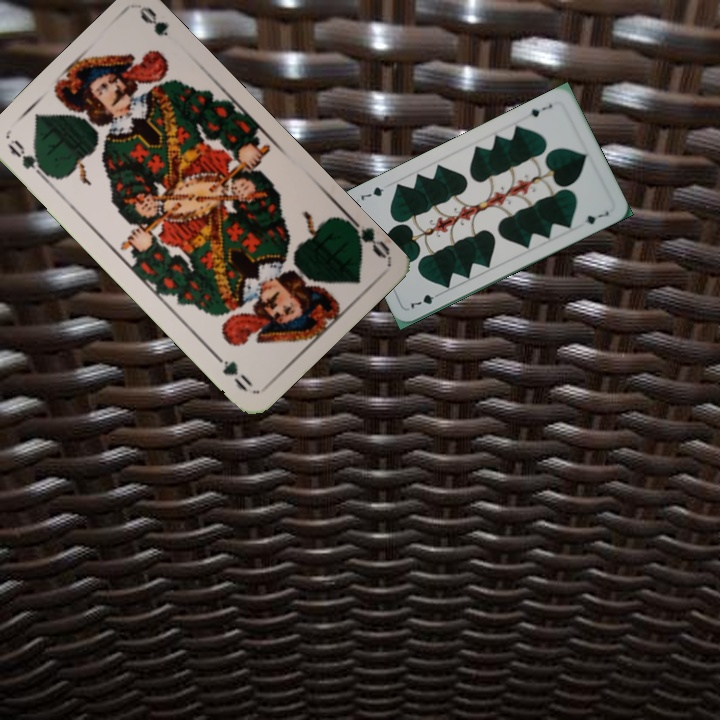G7: (406, 288, 444, 312), (526, 100, 555, 120)
GO: (341, 212, 392, 261), (3, 135, 53, 184)
